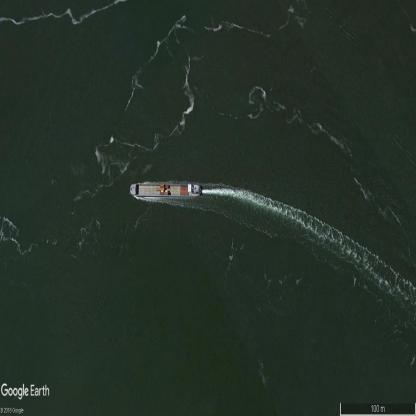ship: (129, 182, 200, 197)
